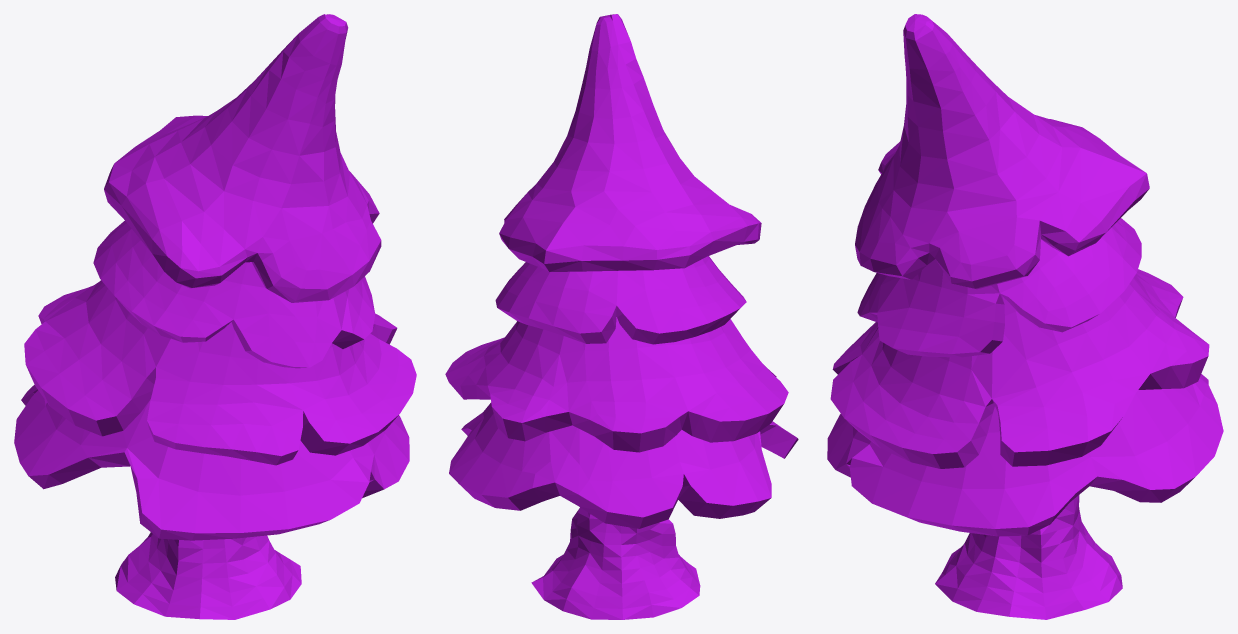
Rendered from meowverse_tree6.glb.
3 renders of one model, left to right at view 1: azimuth 30°, elevation 25°; view 2: azimuth 150°, elevation 25°; view 3: azimuth 270°, elevation 25°, orthographic. The views are drawn at different scales.
Parts seen in each view (by area): view 1: tree1v3.003; view 2: tree1v3.003; view 3: tree1v3.003.
Part boxes in pixels (x1,y1,x2,y2): tree1v3.003: (14, 14, 416, 619); tree1v3.003: (445, 14, 798, 619); tree1v3.003: (827, 14, 1223, 619).
Bounding box in the file's own units: 0.4495 × 0.7132 × 0.4283.
